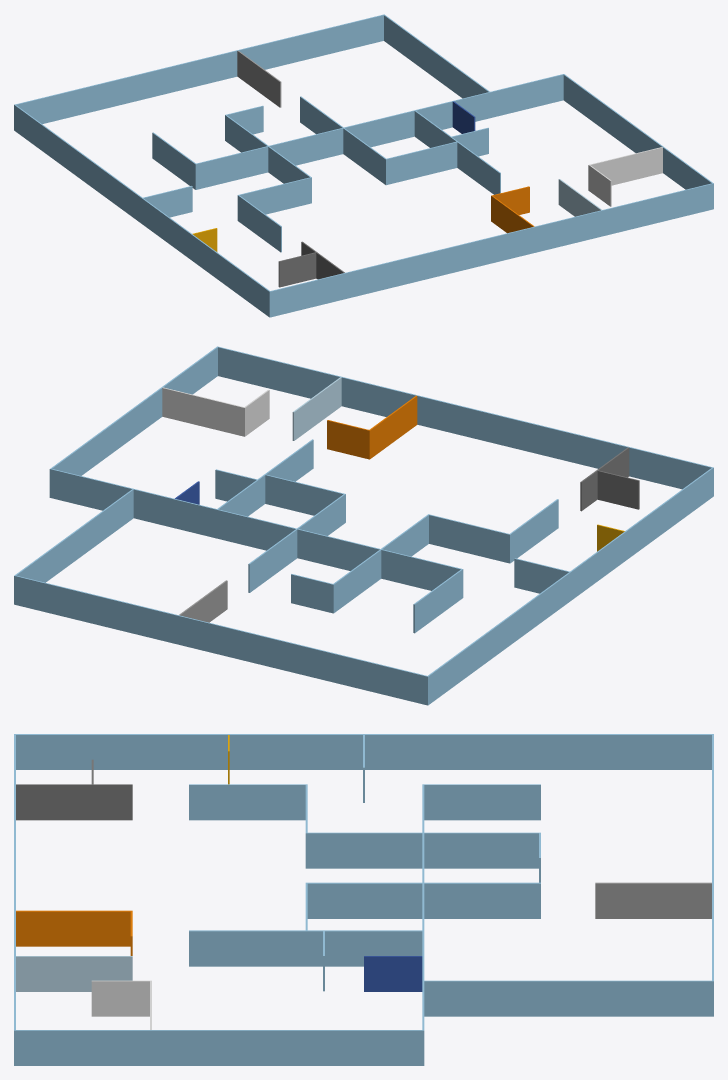
3 views of the same model, one above another, from view 1: azimuth 30°, elevation 25°; view 2: azimuth 150°, elevation 25°; view 3: azimuth 270°, elevation 25° (orthographic). The views are drawn at different scales.
Visible parts, largest first — view 1: 60f0f2da77f14b110f304031 (×9); view 2: 60f0f2da77f14b110f304031 (×8); view 3: 60f0f2da77f14b110f304031 (×8).
Boxes of the visible parts, x1,y1,x2,y2 form: 60f0f2da77f14b110f304031 (×9): (14,14,713,317); 60f0f2da77f14b110f304031 (×8): (14,346,713,705); 60f0f2da77f14b110f304031 (×8): (14,734,713,1065).
Size of the model in its own units: 36.1 by 36 by 2.
